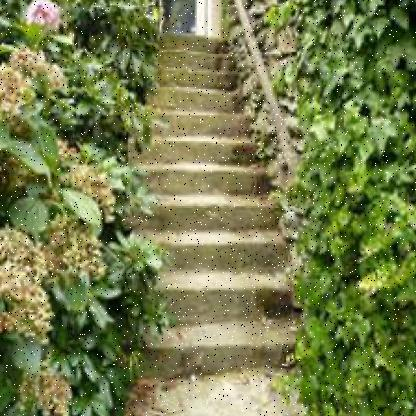stair_up: (128, 132, 310, 355)
